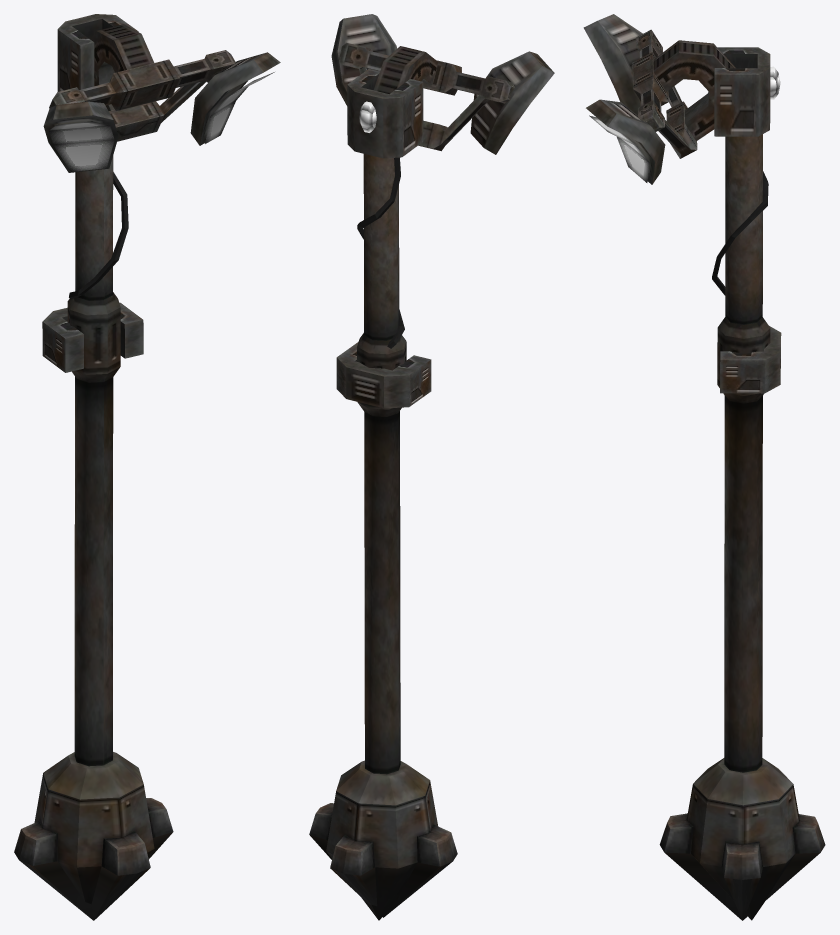
Rendered from floodlight_00.fbx.
3 renders of one model, left to right at view 1: azimuth 30°, elevation 25°; view 2: azimuth 150°, elevation 25°; view 3: azimuth 270°, elevation 25°, orthographic. The views are drawn at different scales.
Visible parts, largest first — view 1: Geoset_1, Geoset_0; view 2: Geoset_1; view 3: Geoset_1, Geoset_0.
Boxes of the visible parts, x1,y1,x2,y2 form: Geoset_1: [14, 14, 280, 920]; Geoset_0: [49, 72, 274, 171]; Geoset_1: [309, 14, 554, 920]; Geoset_1: [583, 14, 825, 920]; Geoset_0: [589, 66, 780, 182].
Size of the model in its own units: 1.09 by 4.12 by 1.03.
Materials: 2 (2 with a texture image).
